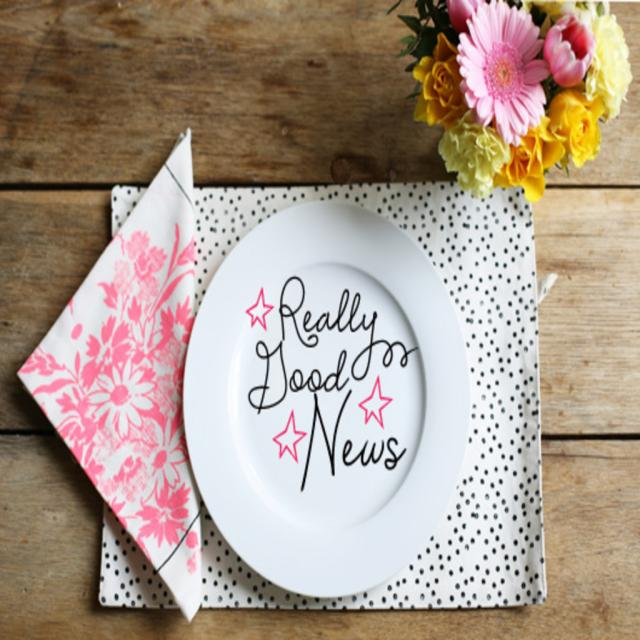non-organic waste: (174, 170, 526, 614)
